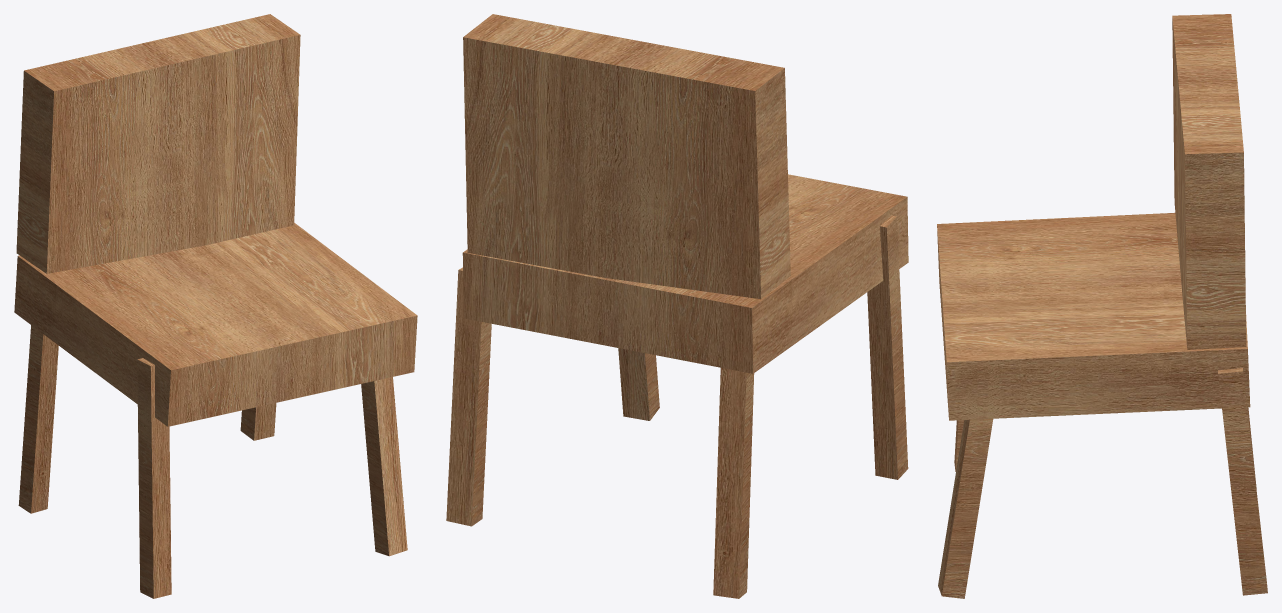
Rendered from 42713_ours.glb.
The picture shows the model from 3 angles, left to right: view 1: azimuth 30°, elevation 25°; view 2: azimuth 150°, elevation 25°; view 3: azimuth 270°, elevation 25°; orthographic projection. The views are drawn at different scales.
Parts seen in each view (by area): view 1: ParentEmpty; view 2: ParentEmpty; view 3: ParentEmpty.
Part boxes in pixels (box(x1,y1,x2,y2)): ParentEmpty: box(14, 14, 417, 598); ParentEmpty: box(446, 14, 908, 598); ParentEmpty: box(937, 14, 1267, 598).
Size of the model in its own units: 0.6199 by 1 by 0.6453.
1 material, 1 textured.
